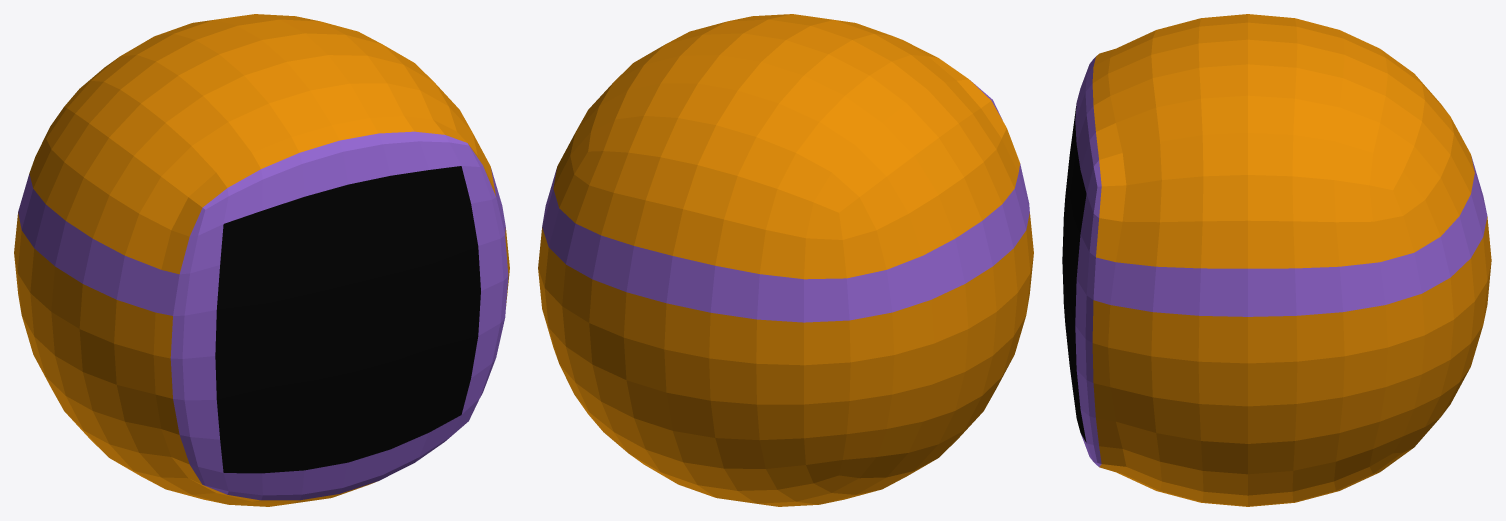
The model's file is characterv1.fbx.
The picture shows the model from 3 angles, left to right: view 1: azimuth 30°, elevation 25°; view 2: azimuth 150°, elevation 25°; view 3: azimuth 270°, elevation 25°; orthographic projection.
Parts seen in each view (by area): view 1: Cubebody Trajan; view 2: Cubebody Trajan; view 3: Cubebody Trajan.
Part boxes in pixels (x1,y1,x2,y2): Cubebody Trajan: [14, 14, 509, 506]; Cubebody Trajan: [538, 14, 1033, 506]; Cubebody Trajan: [1062, 14, 1491, 506].
Size of the model in its own units: 168 by 168 by 148.
